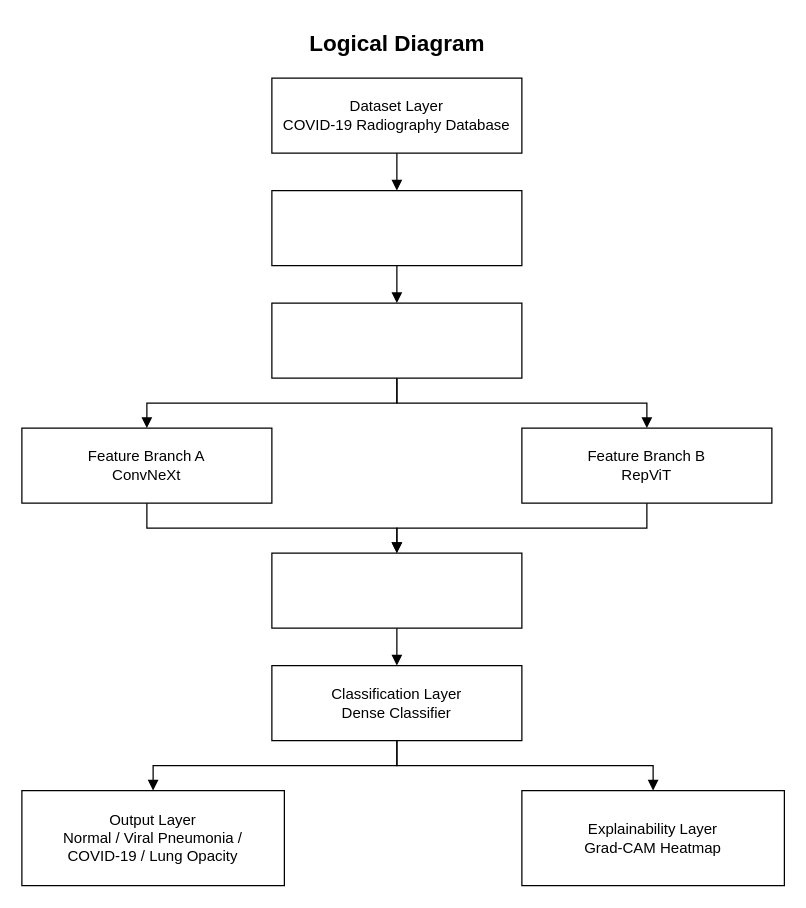
The diagram is 806 pixels wide and 908 high, and some of its shapes have lost their labels. The box of each missing label's shape, as (x1, y1, x2, y2) in pixels:
Feature Fusion Layer: (271, 552, 522, 628)
Preprocessing Layer Resize and Normalize: (271, 189, 522, 266)
Segmentation Layer U-Net Mask Generation: (271, 302, 522, 378)
